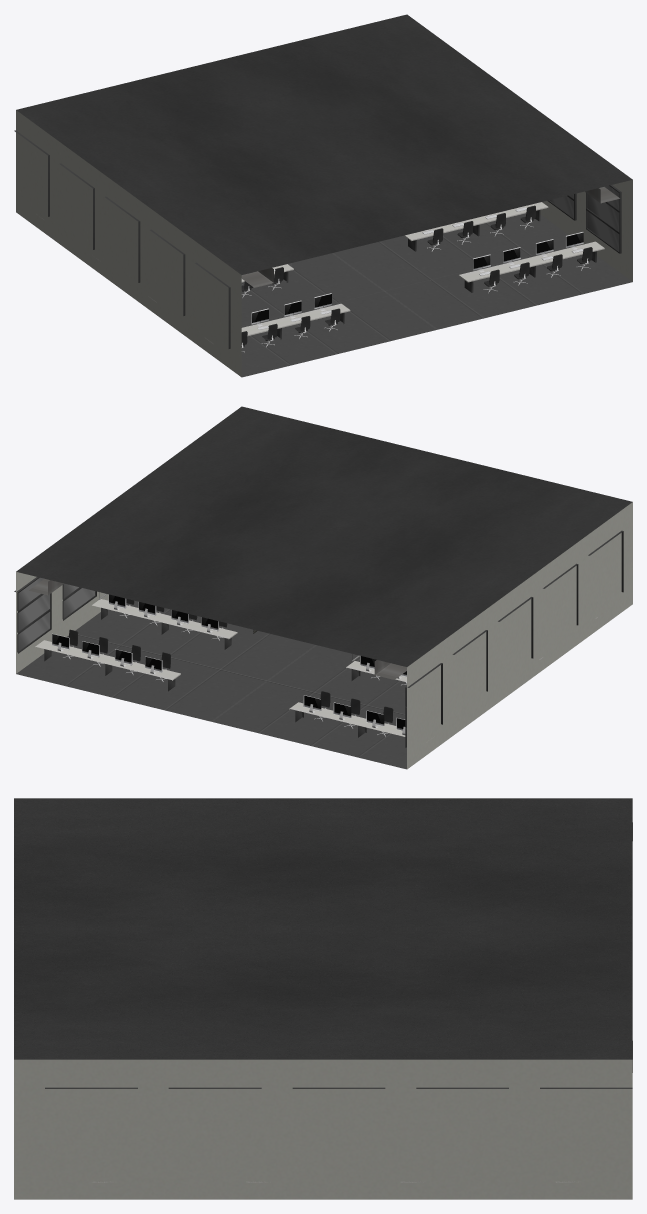
File: cluster0.dae
The picture shows the model from 3 angles, top to bottom: view 1: azimuth 30°, elevation 25°; view 2: azimuth 150°, elevation 25°; view 3: azimuth 270°, elevation 25°; orthographic projection. The views are drawn at different scales.
Visible parts, largest first — view 1: cluster0; view 2: cluster0; view 3: cluster0.
Boxes of the visible parts, x1=… form: cluster0: x1=14, y1=14, x2=632, y2=377; cluster0: x1=14, y1=406, x2=632, y2=769; cluster0: x1=14, y1=798, x2=632, y2=1199.
Size of the model in its own units: 20.2 by 20.01 by 5.
1 material, 1 textured.
